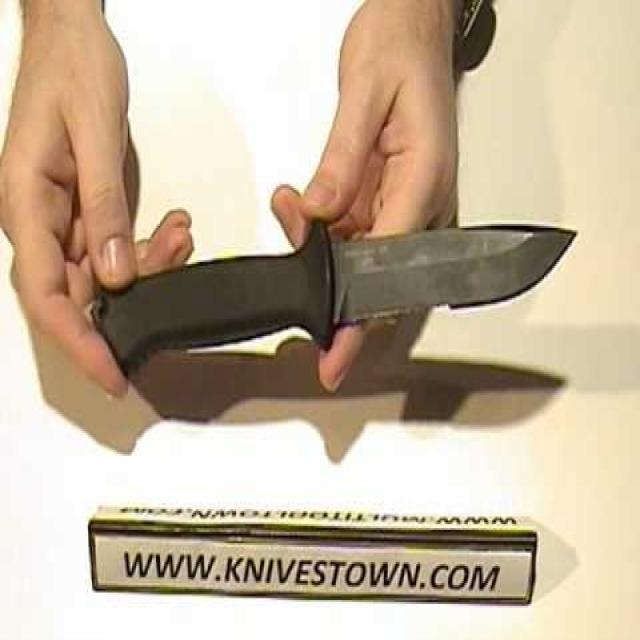knife: (85, 213, 582, 383)
